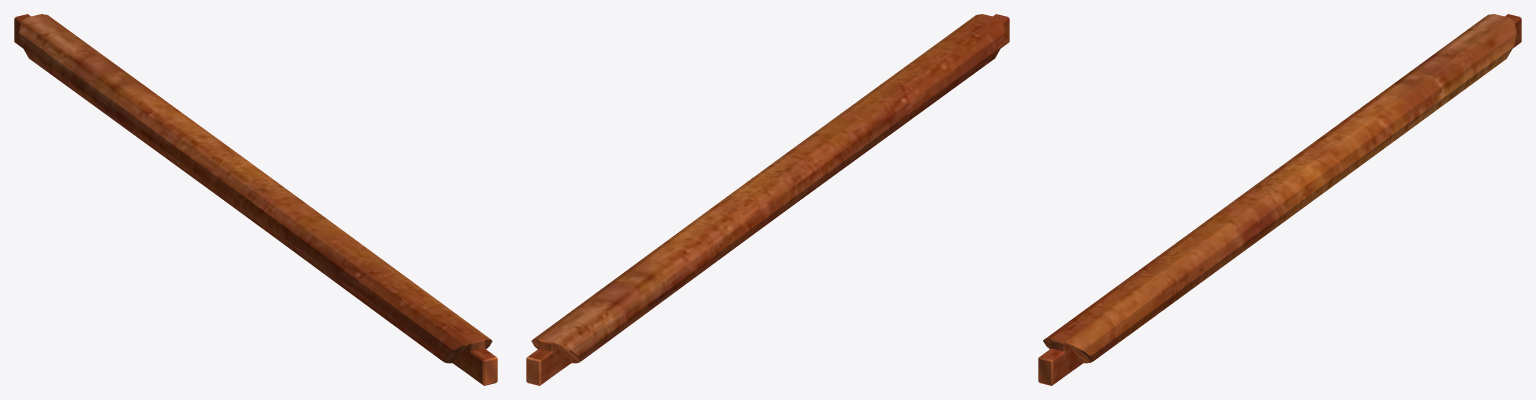
File: SJ_J_cehengzhang_1_007.FBX
The picture shows the model from 3 angles, left to right: view 1: azimuth 30°, elevation 25°; view 2: azimuth 150°, elevation 25°; view 3: azimuth 330°, elevation 25°; orthographic projection.
Visible parts, largest first — view 1: SJ_J_cehengzhang_1_007; view 2: SJ_J_cehengzhang_1_007; view 3: SJ_J_cehengzhang_1_007.
Part boxes in pixels (x1,y1,x2,y2): SJ_J_cehengzhang_1_007: [14, 14, 497, 385]; SJ_J_cehengzhang_1_007: [526, 14, 1009, 385]; SJ_J_cehengzhang_1_007: [1038, 14, 1521, 385].
Bounding box in the file's own units: 2 × 1.5 × 36.62.
2 materials, 2 textured.
